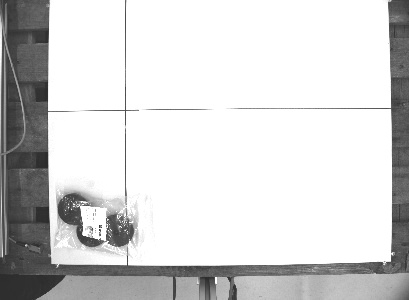t1: (51, 182, 152, 262)
